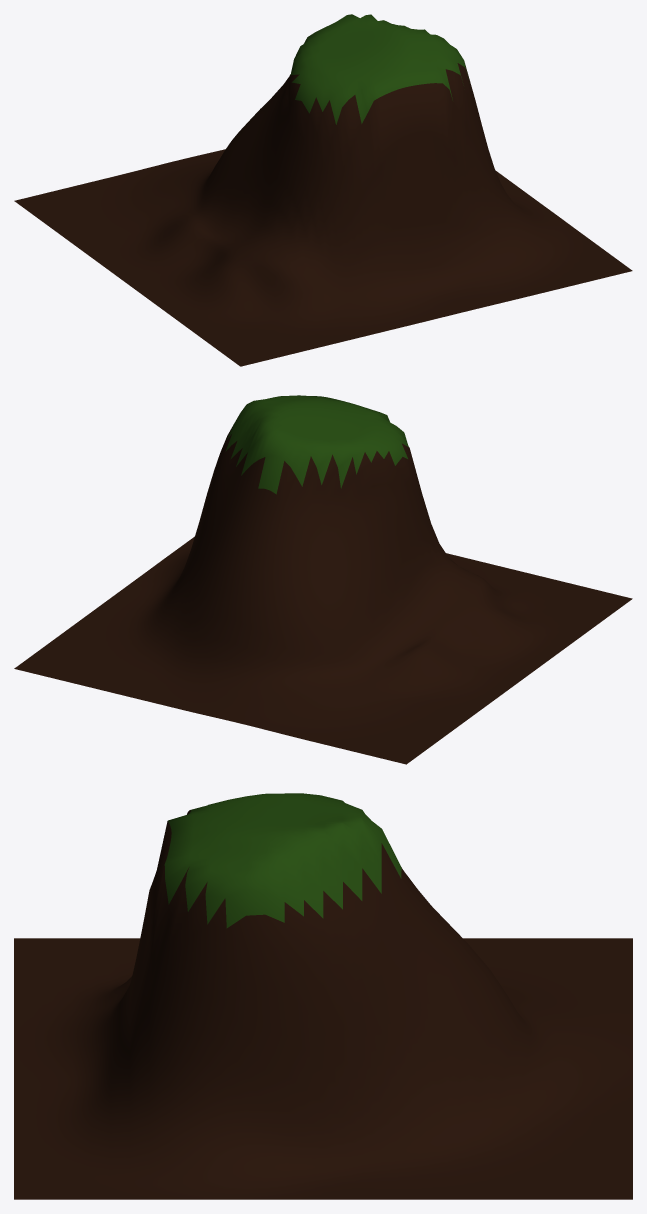
The model's file is Mountain_Mapa06_02.FBX.
3 renders of one model, top to bottom at view 1: azimuth 30°, elevation 25°; view 2: azimuth 150°, elevation 25°; view 3: azimuth 270°, elevation 25°, orthographic. The views are drawn at different scales.
Parts seen in each view (by area): view 1: Plane003; view 2: Plane003; view 3: Plane003.
Part boxes in pixels (<box>): Plane003: <box>14,14,632,366</box>; Plane003: <box>14,395,632,764</box>; Plane003: <box>14,793,632,1199</box>.
Bounding box in the file's own units: 231 × 114 × 231.
